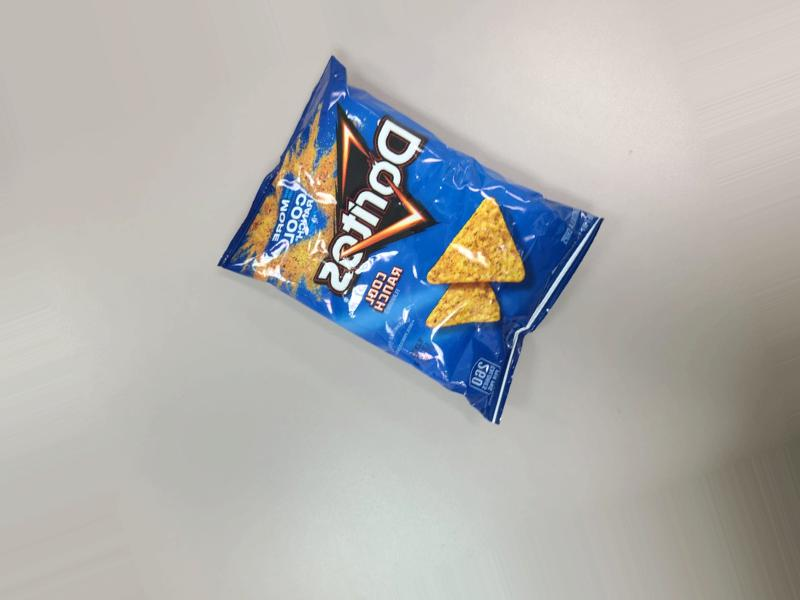doritos: (226, 57, 614, 456)
